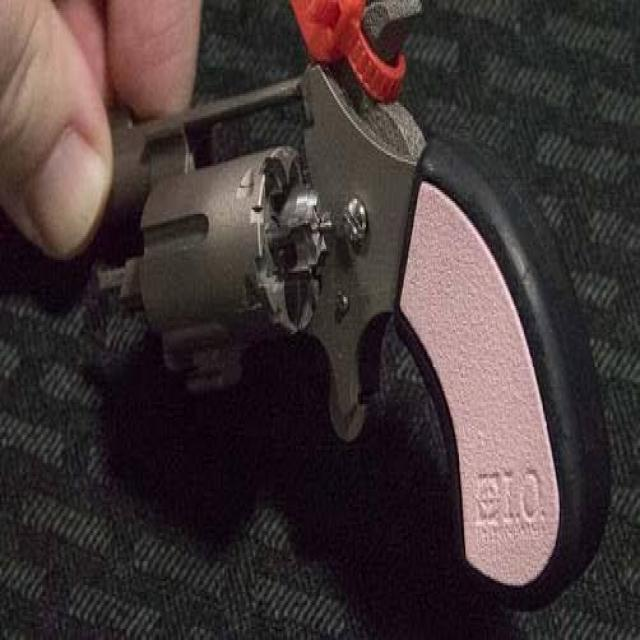revolver: (89, 0, 616, 640)
